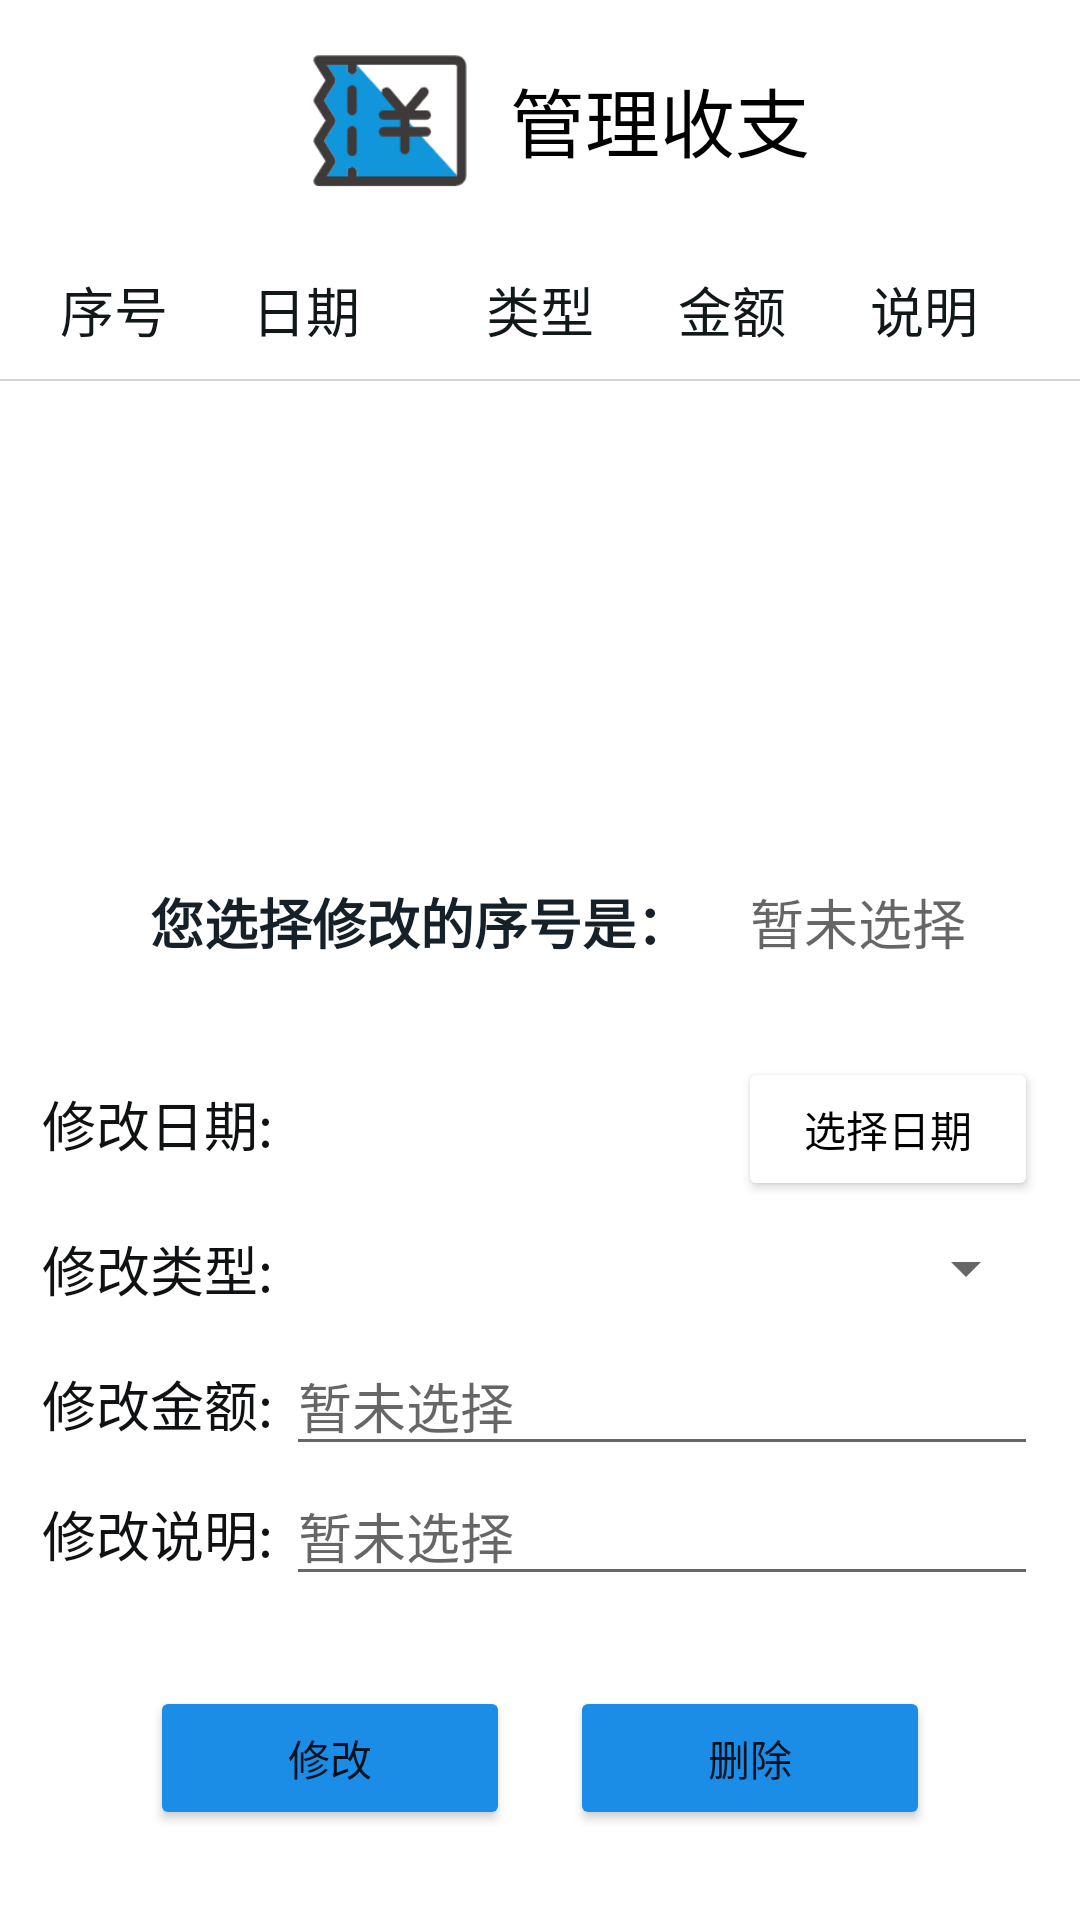

Screen size 1080px×1920px. Icon name, then its box in pixels as (x1, y1, x2, y2):
manage record: (313, 55, 467, 186)
